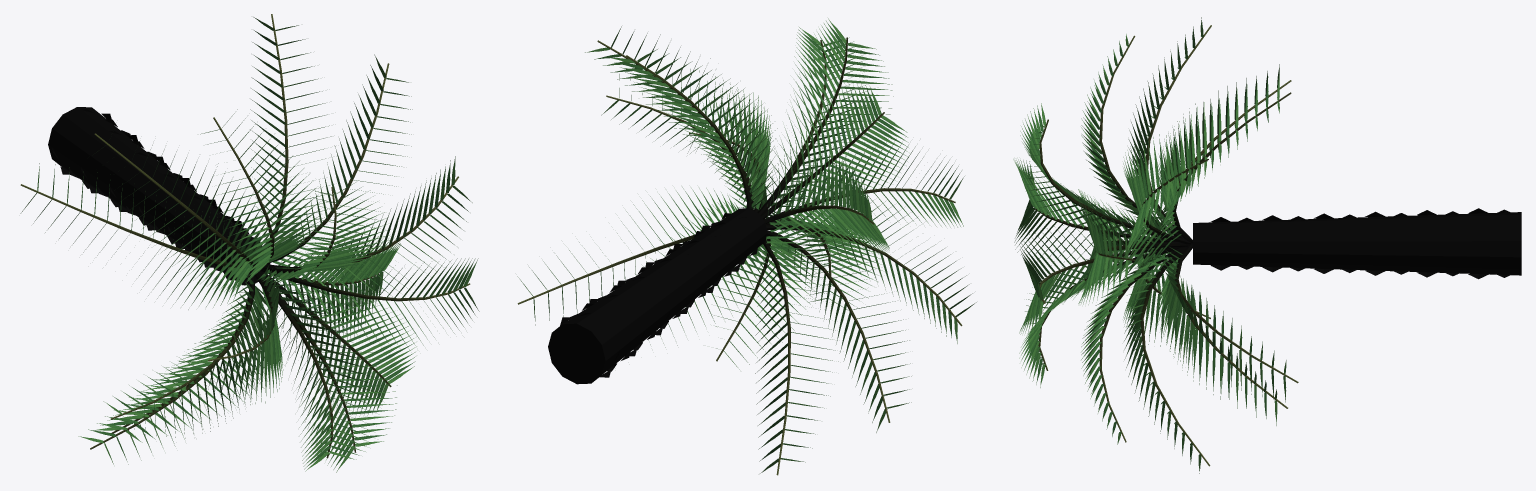
File: VD_DatePalm_Hero.obj
3 views of the same model, side by side, from view 1: azimuth 30°, elevation 25°; view 2: azimuth 150°, elevation 25°; view 3: azimuth 270°, elevation 25° (orthographic). The views are drawn at different scales.
Parts seen in each view (by area): view 1: VD_DatePalm_Hero; view 2: VD_DatePalm_Hero; view 3: VD_DatePalm_Hero.
Boxes of the visible parts, x1,y1,x2,y2 form: VD_DatePalm_Hero: [20, 14, 479, 472]; VD_DatePalm_Hero: [517, 18, 976, 475]; VD_DatePalm_Hero: [1013, 17, 1521, 473].
Size of the model in its own units: 346 by 347 by 417.
3 materials, 1 textured.
